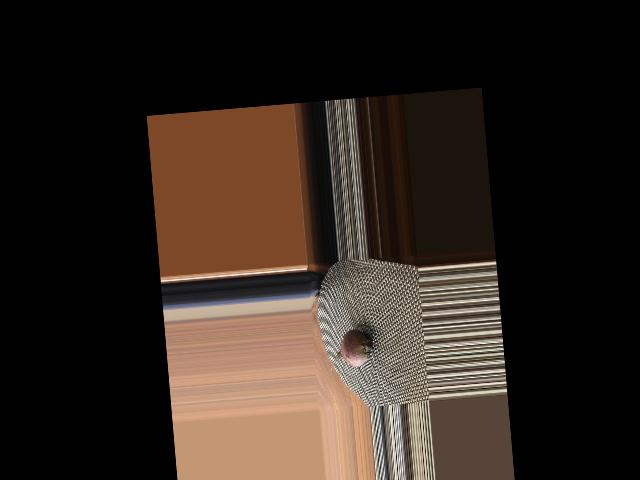beet: (327, 322, 377, 374)
